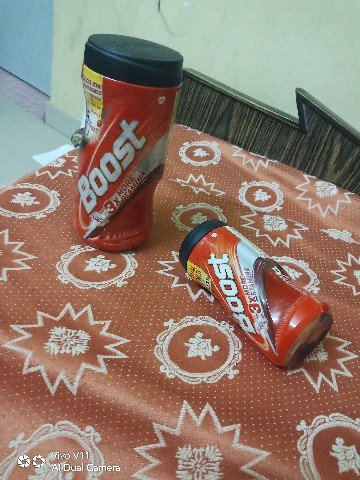boost big: (63, 19, 180, 251)
boost small: (174, 213, 335, 382)
